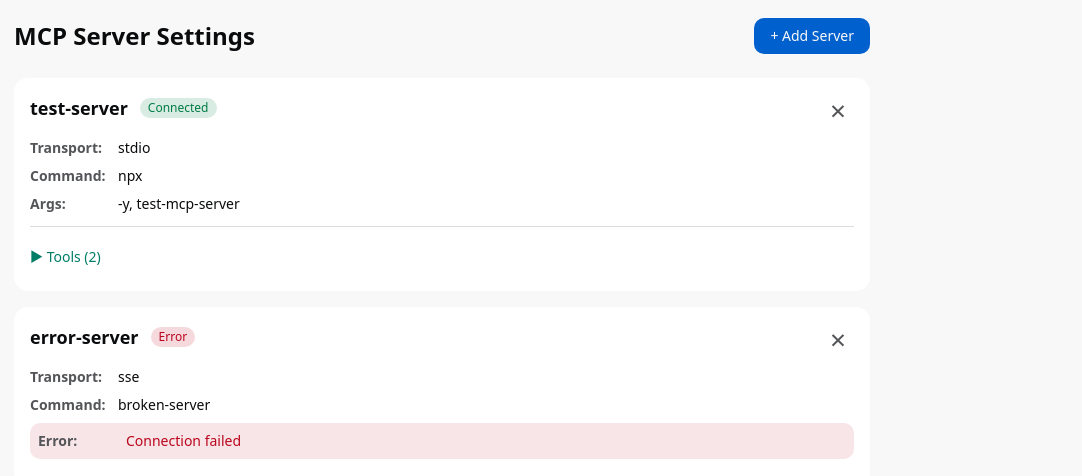
Scenario: MCPSettings › removing servers › should show error toast when removing fails
Expected: the heading "test-server" is shown, [30, 94, 128, 122]
Click the button titled "Remove server" in the row of "Connected" at (838, 110), box [822, 94, 854, 126]
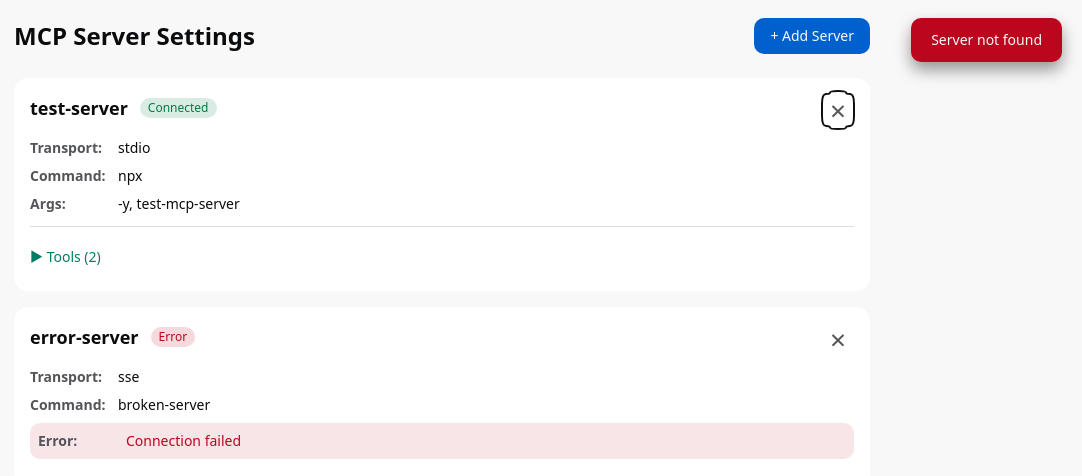
Result: the text "Server not found" is shown at [911, 18, 1062, 62]
